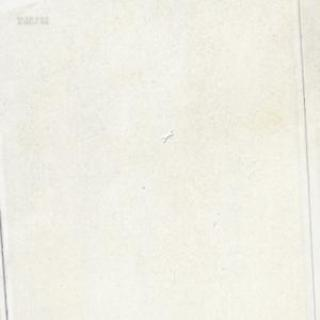Wrenchtrack_idkeyframe: (161, 128, 172, 142)
